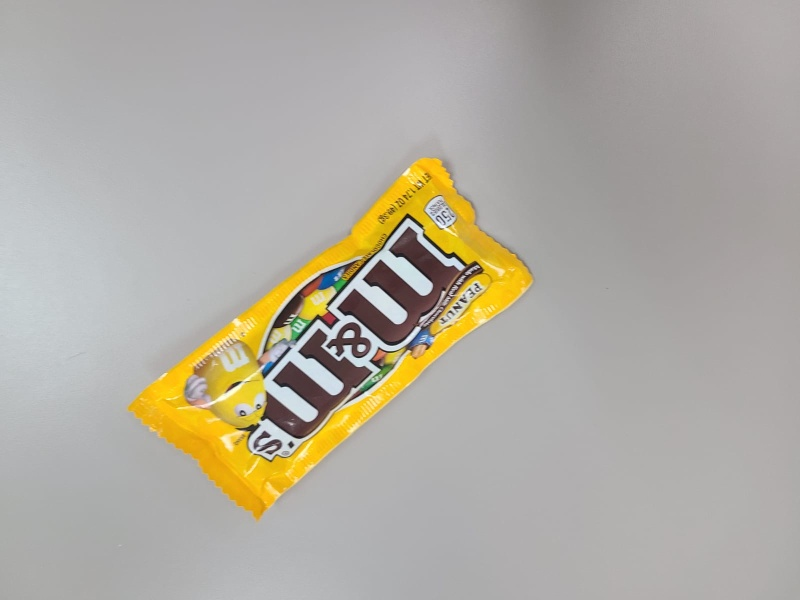m&m: (133, 156, 535, 522)
